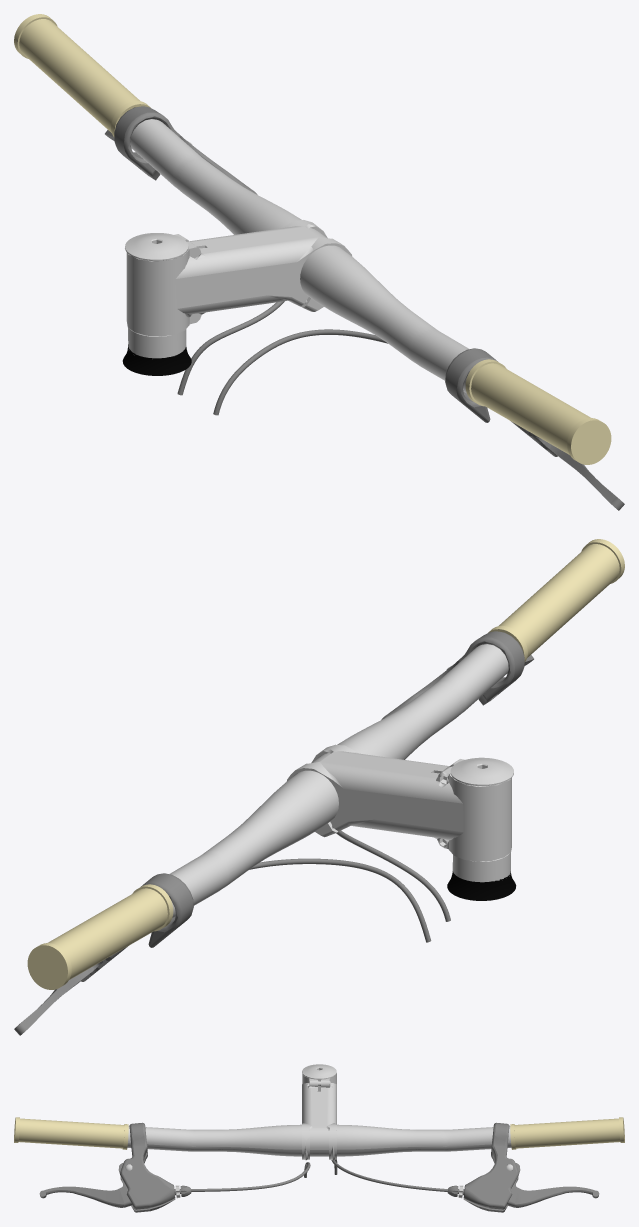
Rendered from Mango_Handle_Flat.glb.
3 renders of one model, top to bottom at view 1: azimuth 30°, elevation 25°; view 2: azimuth 150°, elevation 25°; view 3: azimuth 270°, elevation 25°, orthographic. The views are drawn at different scales.
Parts seen in each view (by area): view 1: no_transformations (×6); view 2: no_transformations (×6); view 3: no_transformations (×5).
Part boxes in pixels (x1,y1,x2,y2): no_transformations (×6): (14, 14, 624, 510); no_transformations (×6): (14, 539, 624, 1035); no_transformations (×5): (14, 1064, 624, 1212).
Size of the model in its own units: 178 by 107 by 614.
